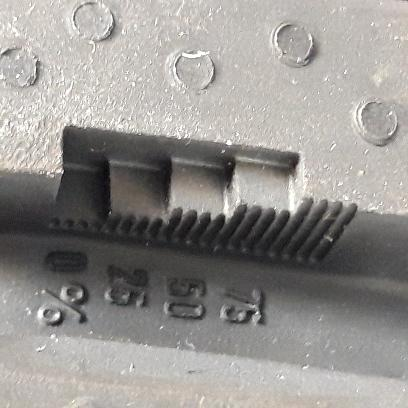temoin:100: (43, 122, 359, 273)
